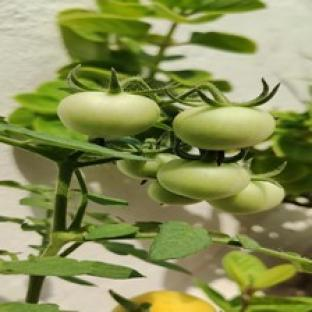Tomato: (58, 91, 160, 137), (173, 106, 275, 150), (158, 159, 249, 200), (209, 180, 285, 214), (131, 290, 215, 311), (251, 155, 309, 185), (116, 154, 176, 179), (148, 180, 199, 204)
